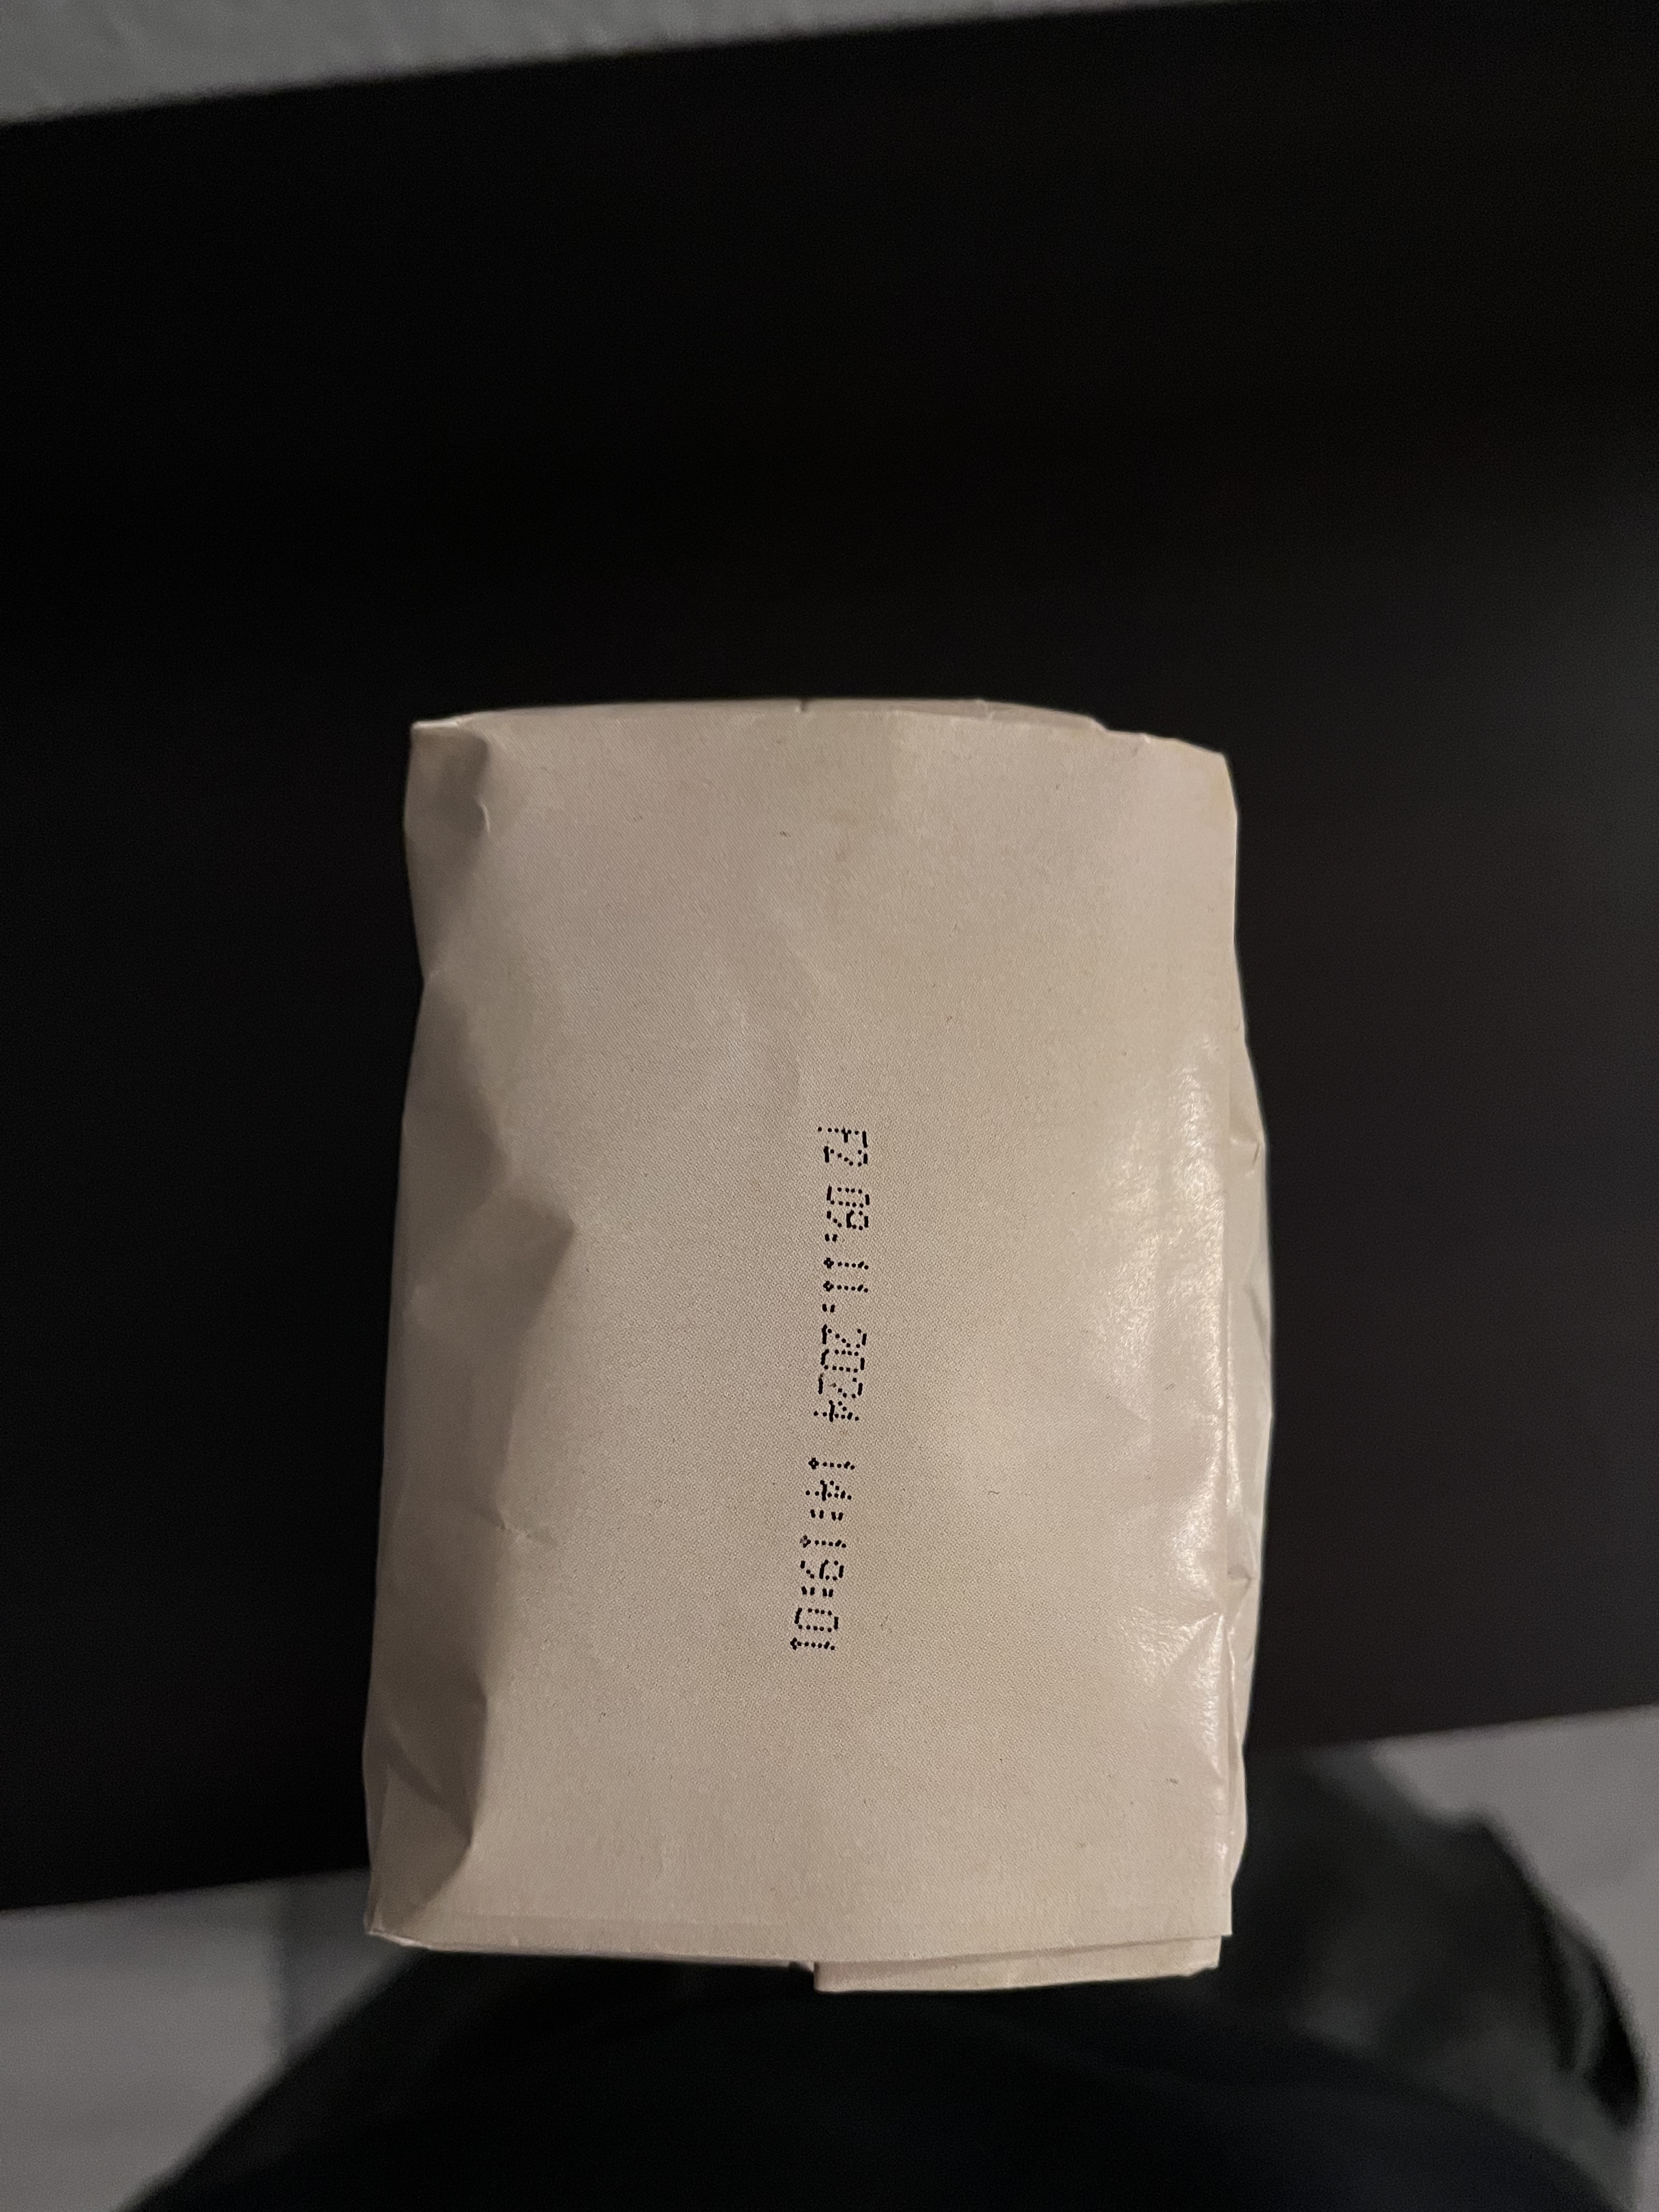haferflocken_ja: (347, 686, 1284, 1998)
